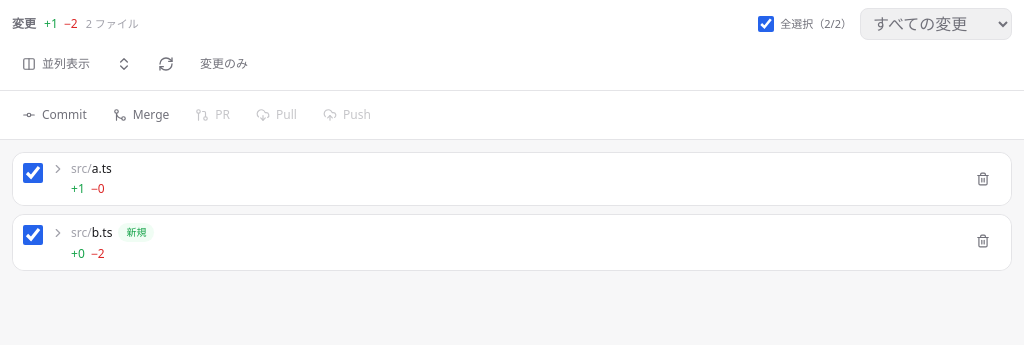
DiffPane 全選択 › 個別解除後は全選択チェックが外れ、選択数が減る
Expected: the text "a.ts" is shown, [92,161,112,177]
Click the checkbox named "src/b.ts をコミット対象にする" at {"x": 33, "y": 235}, box [23,225,43,245]
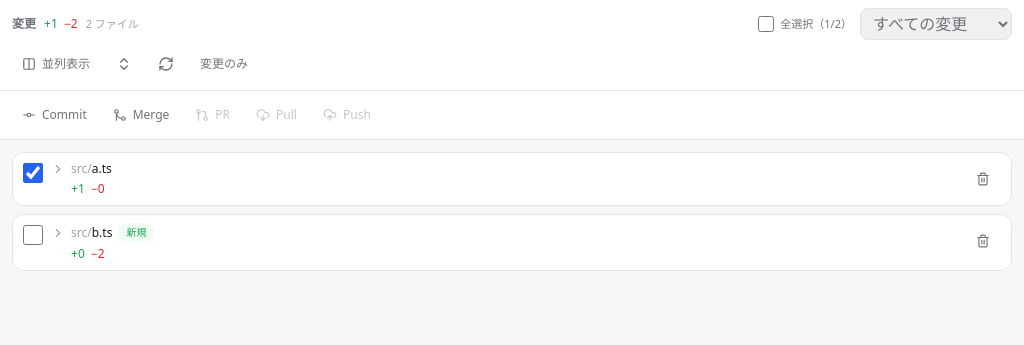
Now the checkbox named "表示中のファイルをすべてコミット対象にする" is not checked, box [758,16,774,32]
Click the button with aria-label "Commit パネル" at {"x": 54, "y": 115}, box [12,99,97,131]
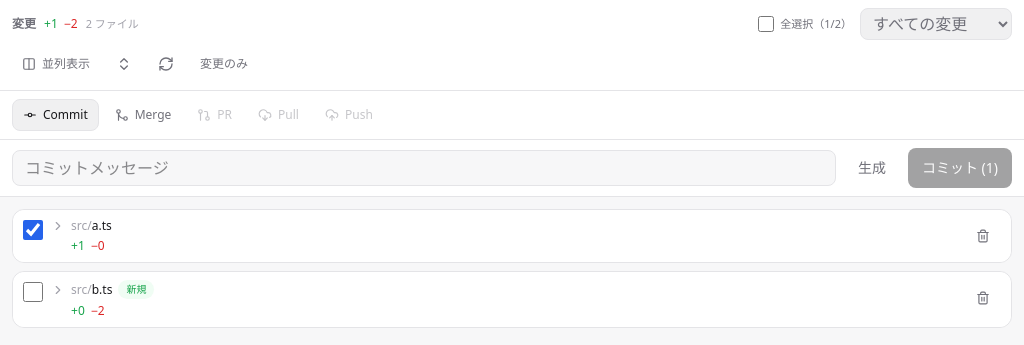
Now the button "コミット (1)" is shown, box [908,148,1012,188]
